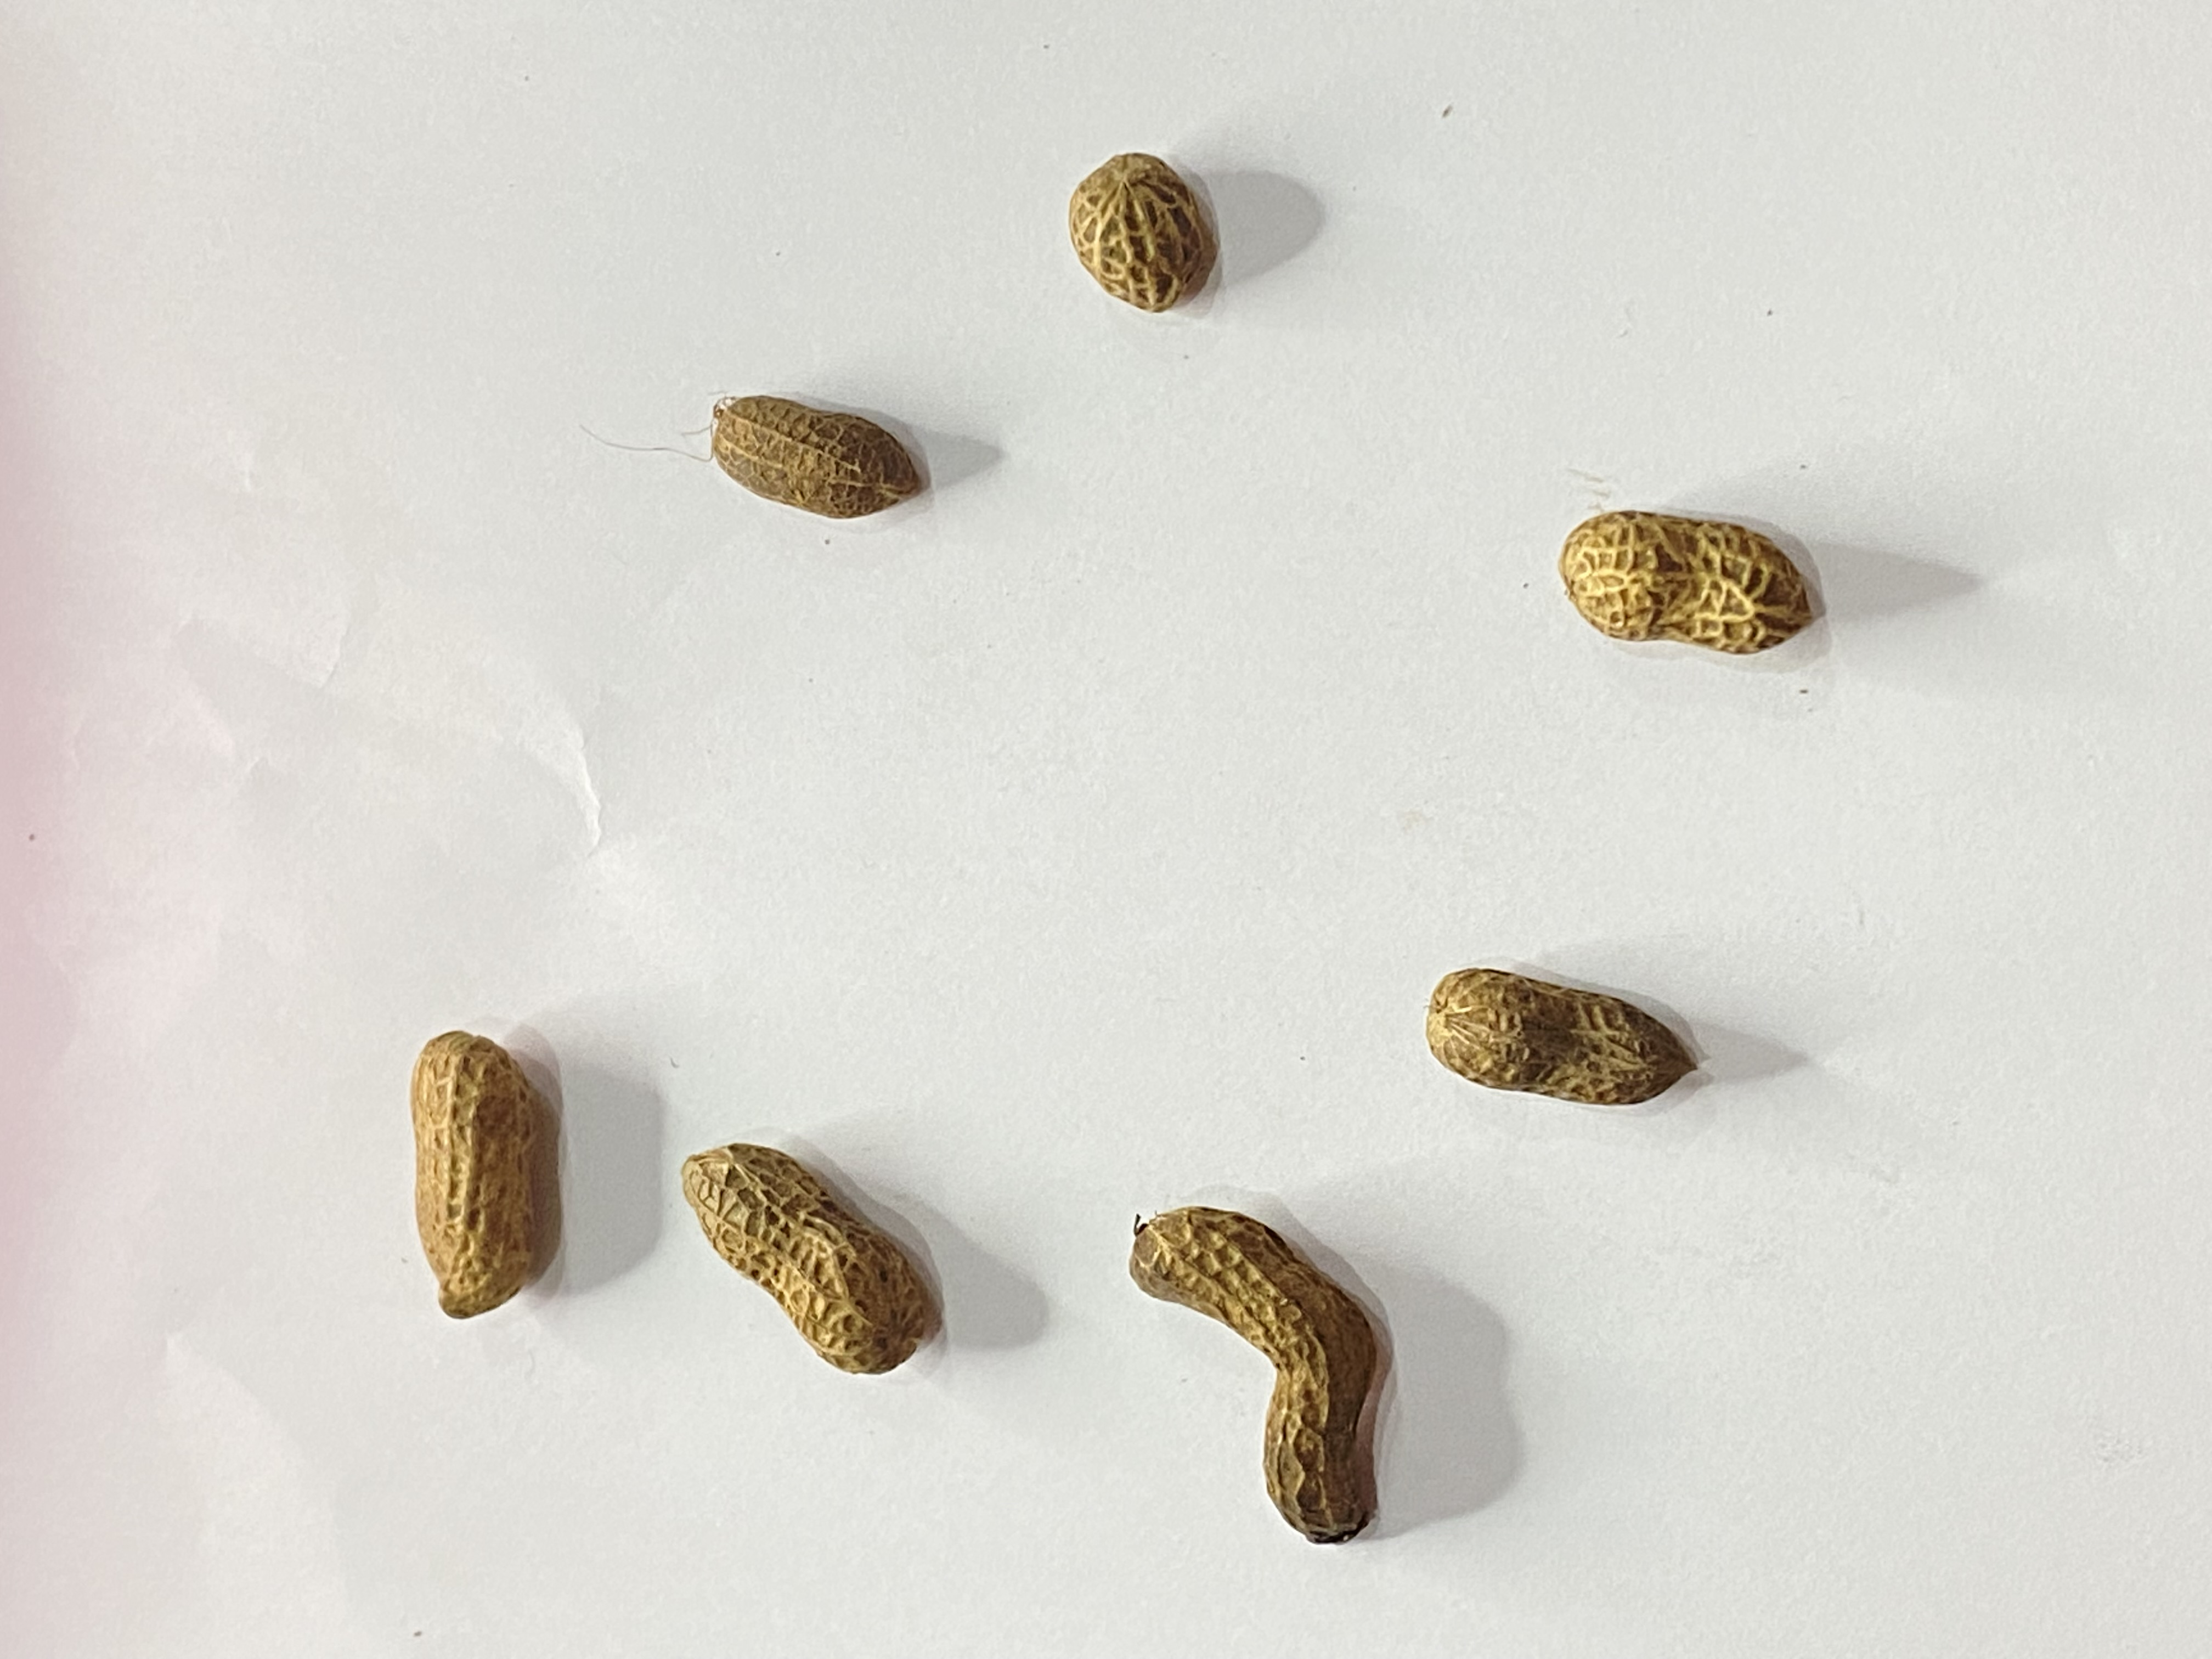kacang1: (1052, 152, 1245, 308)
kacang2: (627, 1124, 967, 1387), (368, 1009, 622, 1338), (1385, 955, 1726, 1124), (1538, 500, 1857, 680), (648, 392, 958, 519)
kacang3: (1109, 1192, 1426, 1575)
